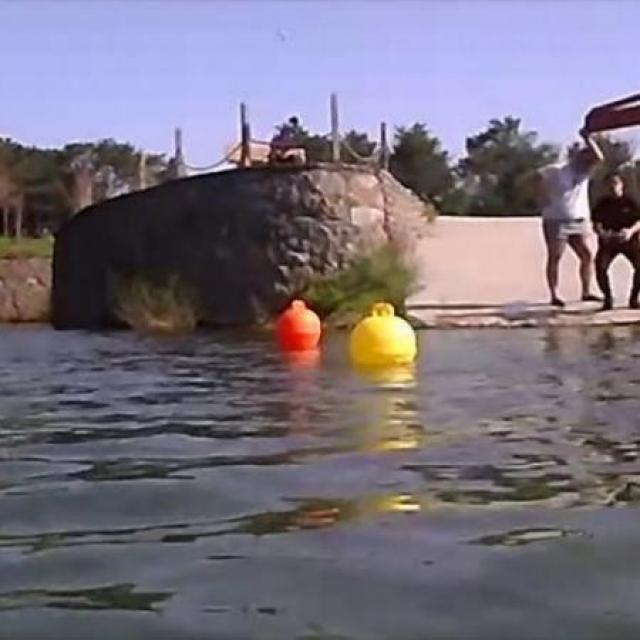buoy: (354, 310, 414, 374), (280, 301, 319, 352)
